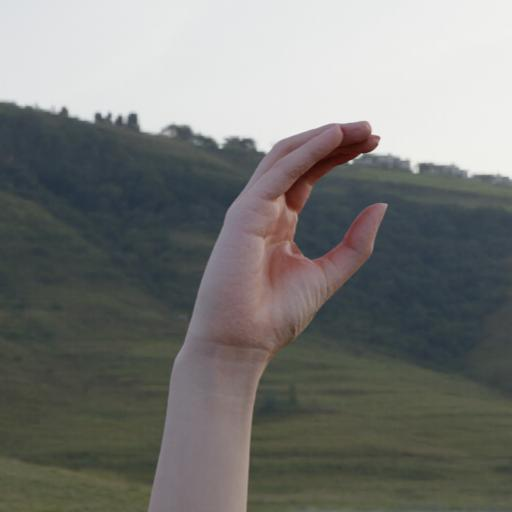C: (188, 118, 396, 354)
